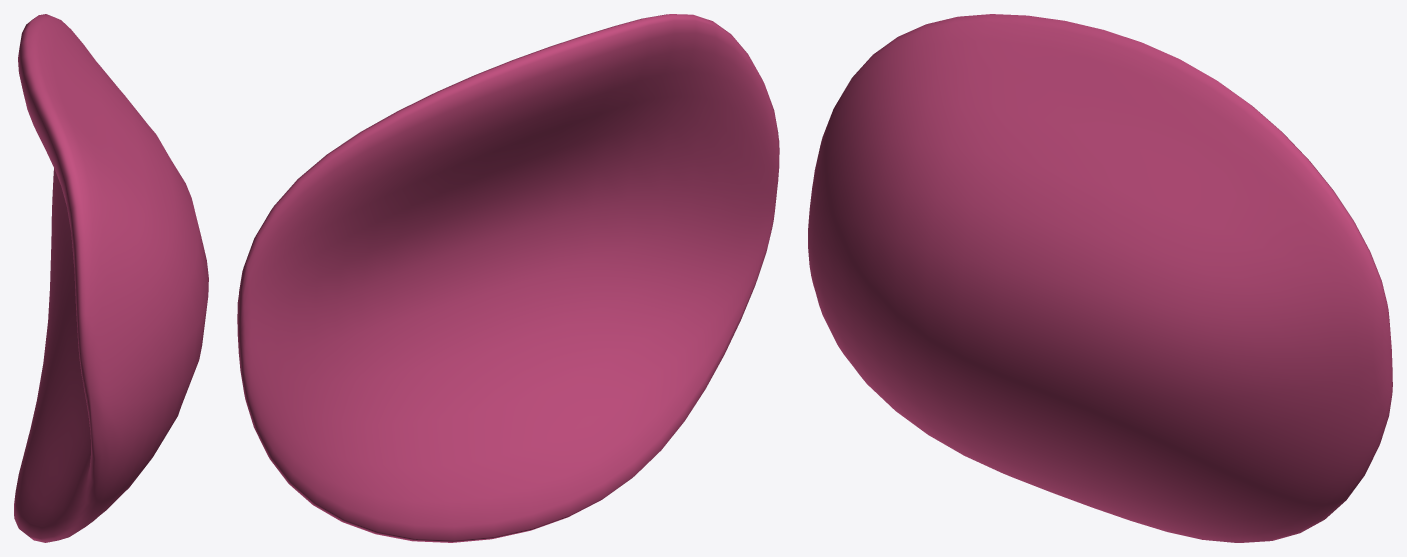
The picture shows the model from 3 angles, left to right: view 1: azimuth 30°, elevation 25°; view 2: azimuth 150°, elevation 25°; view 3: azimuth 270°, elevation 25°; orthographic projection. The views are drawn at different scales.
Visible parts, largest first — view 1: 左侧臀小肌转子囊; view 2: 左侧臀小肌转子囊; view 3: 左侧臀小肌转子囊.
Part boxes in pixels (x1,y1,x2,y2): 左侧臀小肌转子囊: [14, 14, 208, 542]; 左侧臀小肌转子囊: [237, 14, 779, 542]; 左侧臀小肌转子囊: [808, 14, 1392, 542].
Size of the model in its own units: 0.0172 by 0.0279 by 0.0303.
